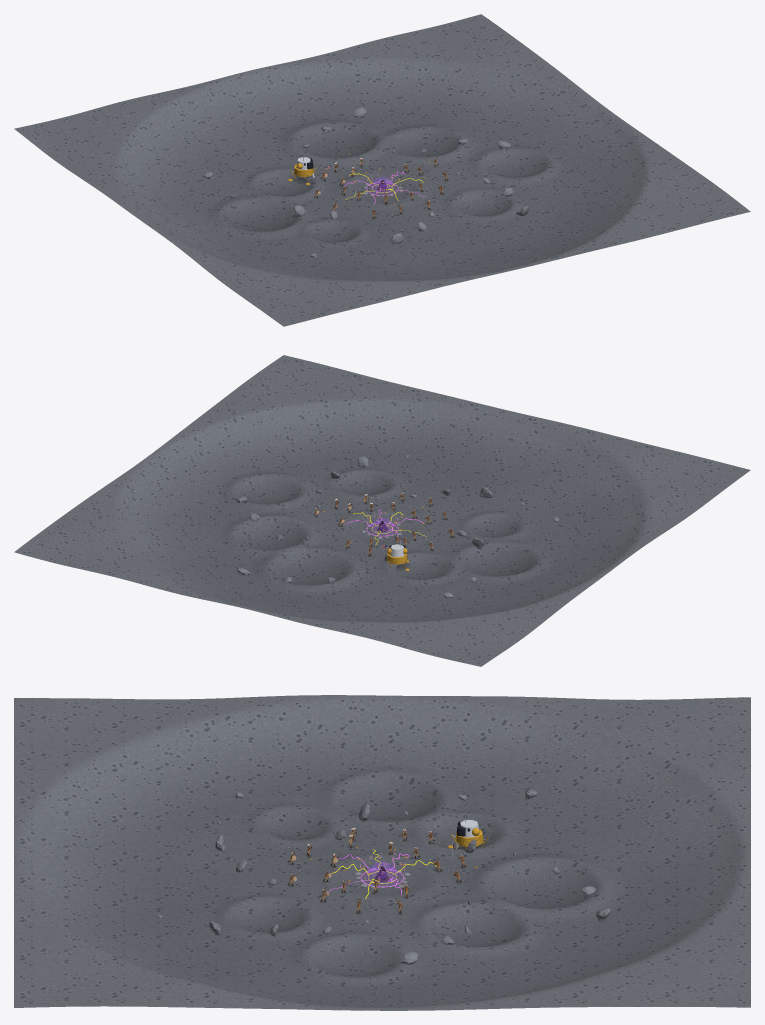
The model's file is lunar-arcane-clash-no-space-scene.gltf.
The picture shows the model from 3 angles, top to bottom: view 1: azimuth 30°, elevation 25°; view 2: azimuth 150°, elevation 25°; view 3: azimuth 270°, elevation 25°; orthographic projection. The views are drawn at different scales.
Parts seen in each view (by area): view 1: Moon_Regolith_Terrain; view 2: Moon_Regolith_Terrain; view 3: Moon_Regolith_Terrain.
Boxes of the visible parts, x1,y1,x2,y2 form: Moon_Regolith_Terrain: (14, 14, 750, 326); Moon_Regolith_Terrain: (14, 355, 750, 666); Moon_Regolith_Terrain: (14, 695, 750, 1010).
Bounding box in the file's own units: 110 × 7.14 × 110.
Materials: 45 (9 with a texture image).
